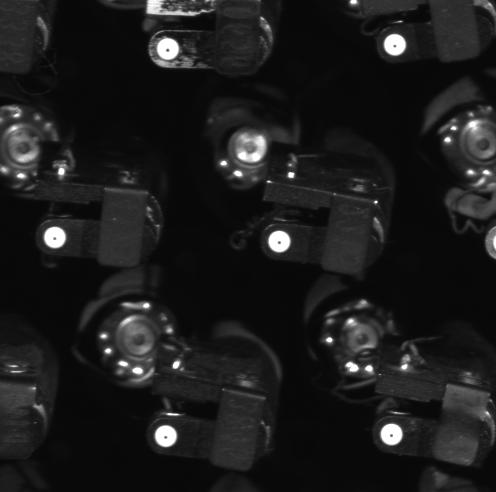fiber: (150, 419, 187, 453), (379, 30, 413, 60), (262, 227, 297, 255), (41, 225, 74, 254), (375, 421, 408, 448), (155, 36, 184, 63)
